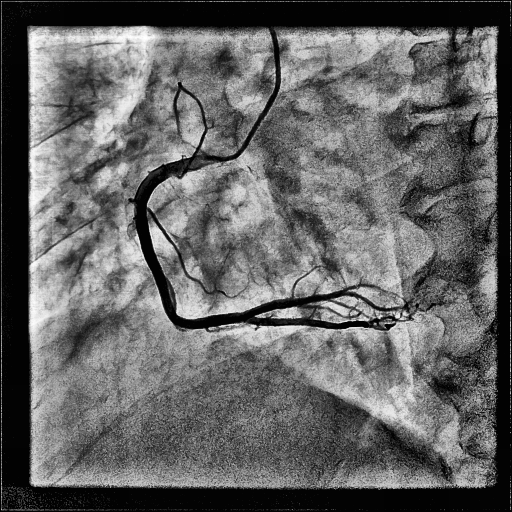pborca: (245, 291, 397, 316)
pda: (244, 316, 369, 329)
rca: (135, 157, 245, 329)
